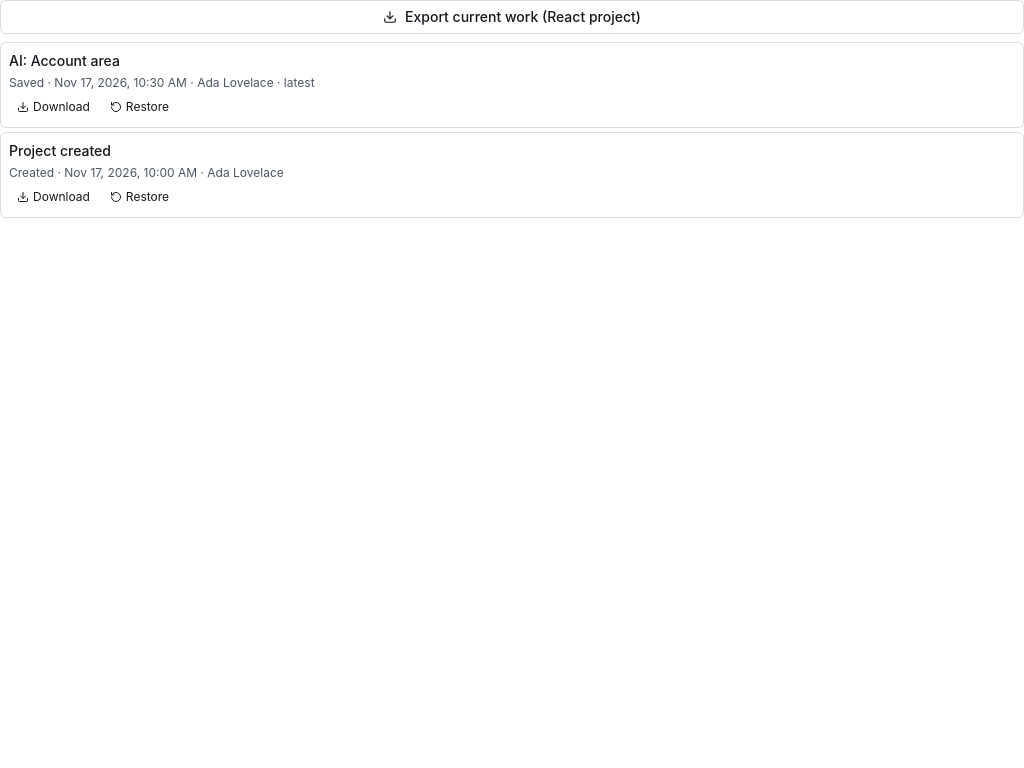
HistoryPanel › shows why a restore was refused and keeps the dialog open
Click the button with aria-label "Restore “Project created”" at point(140, 197), box [102,185,177,209]
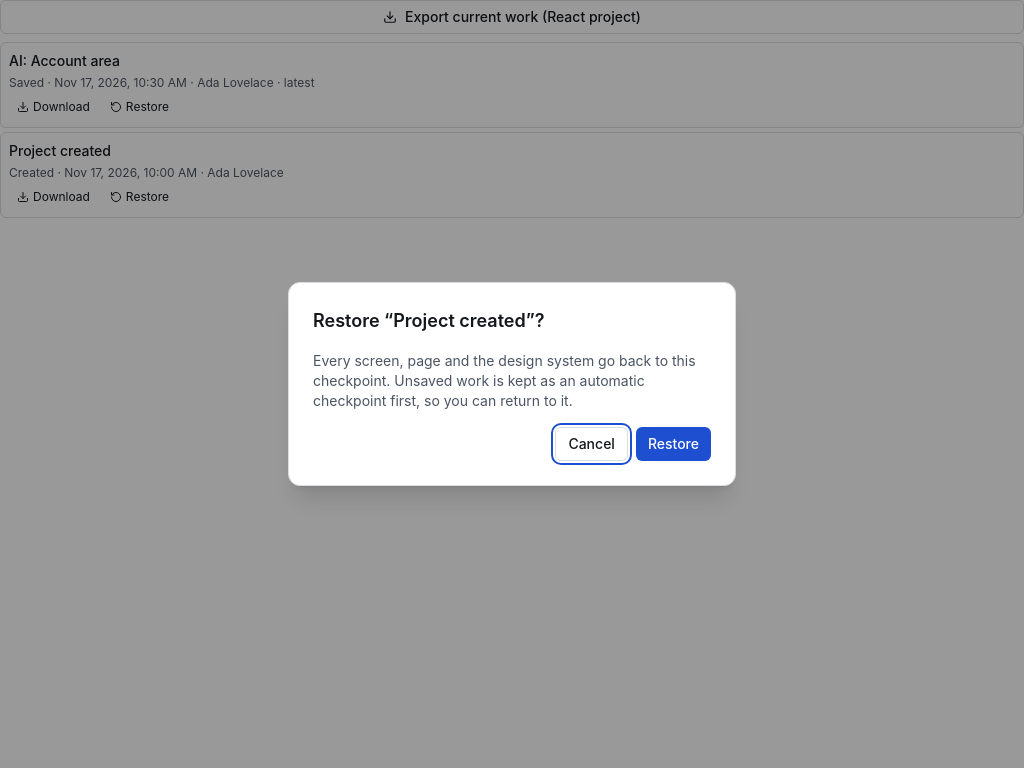
Click the button "Restore" at point(673, 444), box [636,427,711,461]
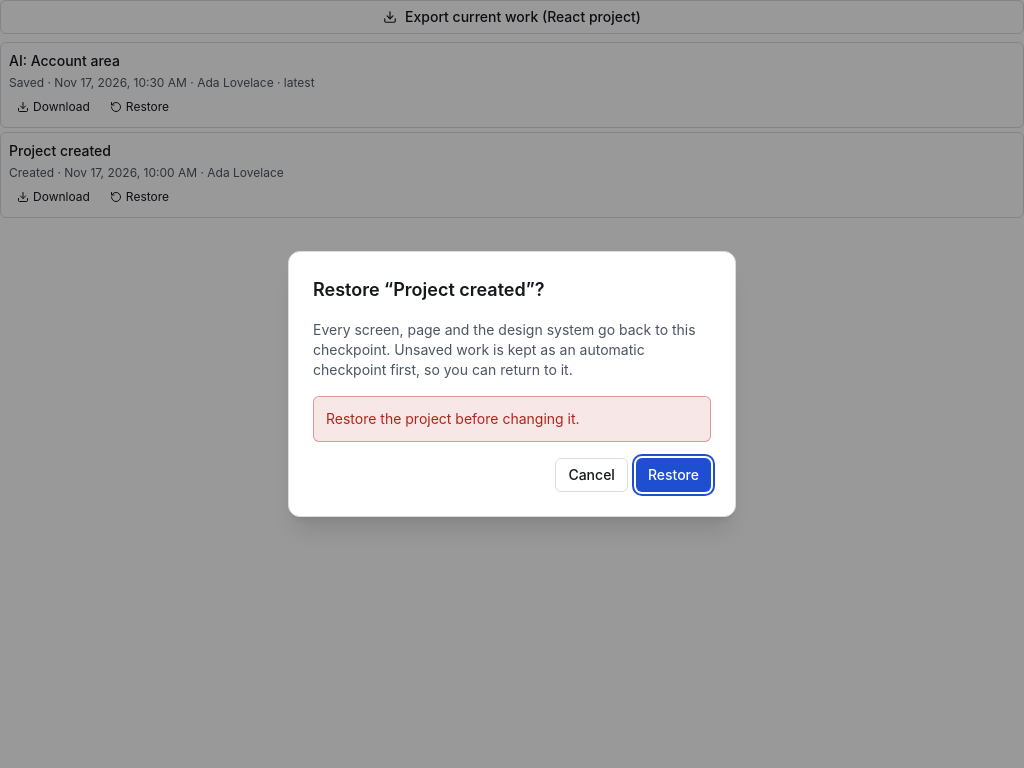
Now the dialog is shown, box [288,251,736,517]
Now the text "Restore the project before changing it." is shown, box [313,396,711,442]
